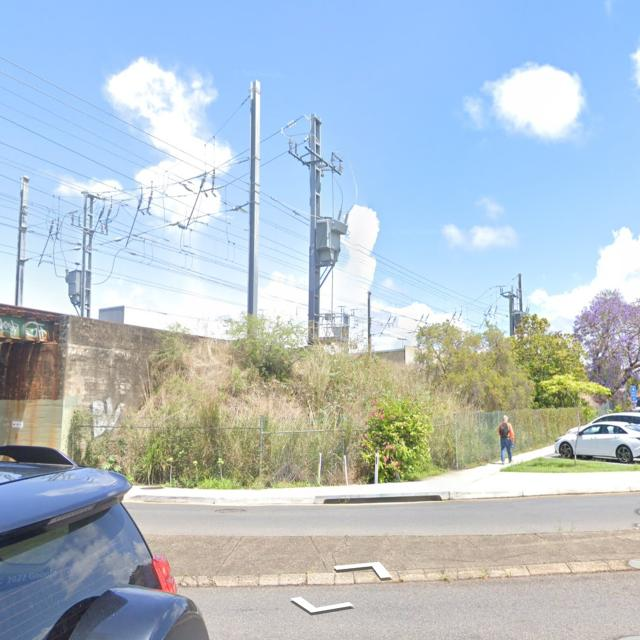HV-switch: (289, 134, 343, 175), (500, 286, 521, 300)
HV-transmission: (68, 194, 114, 236), (283, 114, 310, 144)
steel-pole: (246, 80, 261, 341), (307, 115, 321, 344), (79, 191, 95, 320), (15, 175, 30, 308), (509, 296, 516, 338)
transformer: (316, 215, 348, 268), (64, 266, 91, 304), (513, 310, 529, 328)
